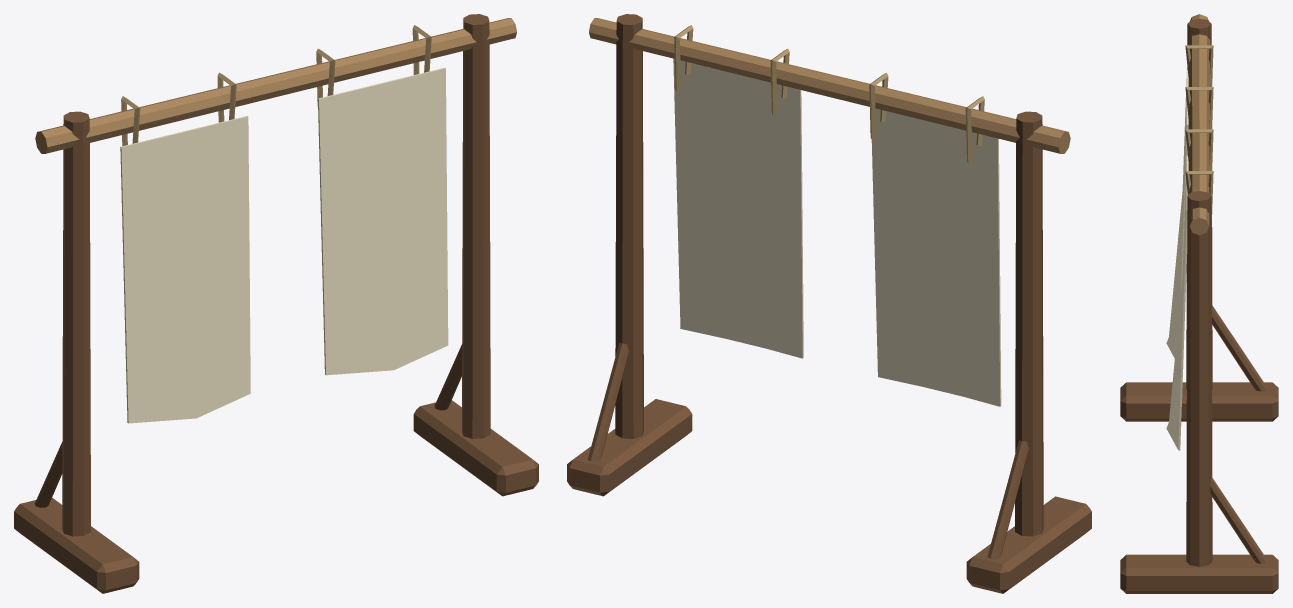
The picture shows the model from 3 angles, left to right: view 1: azimuth 30°, elevation 25°; view 2: azimuth 150°, elevation 25°; view 3: azimuth 270°, elevation 25°; orthographic projection. The views are drawn at different scales.
Visible parts, largest first — view 1: BA-0014 batched; view 2: BA-0014 batched; view 3: BA-0014 batched.
Boxes of the visible parts, bbox=[...] form: BA-0014 batched: bbox=[14, 14, 538, 593]; BA-0014 batched: bbox=[567, 14, 1091, 593]; BA-0014 batched: bbox=[1120, 14, 1278, 593].
Size of the model in its own units: 2 by 1.81 by 0.66.
